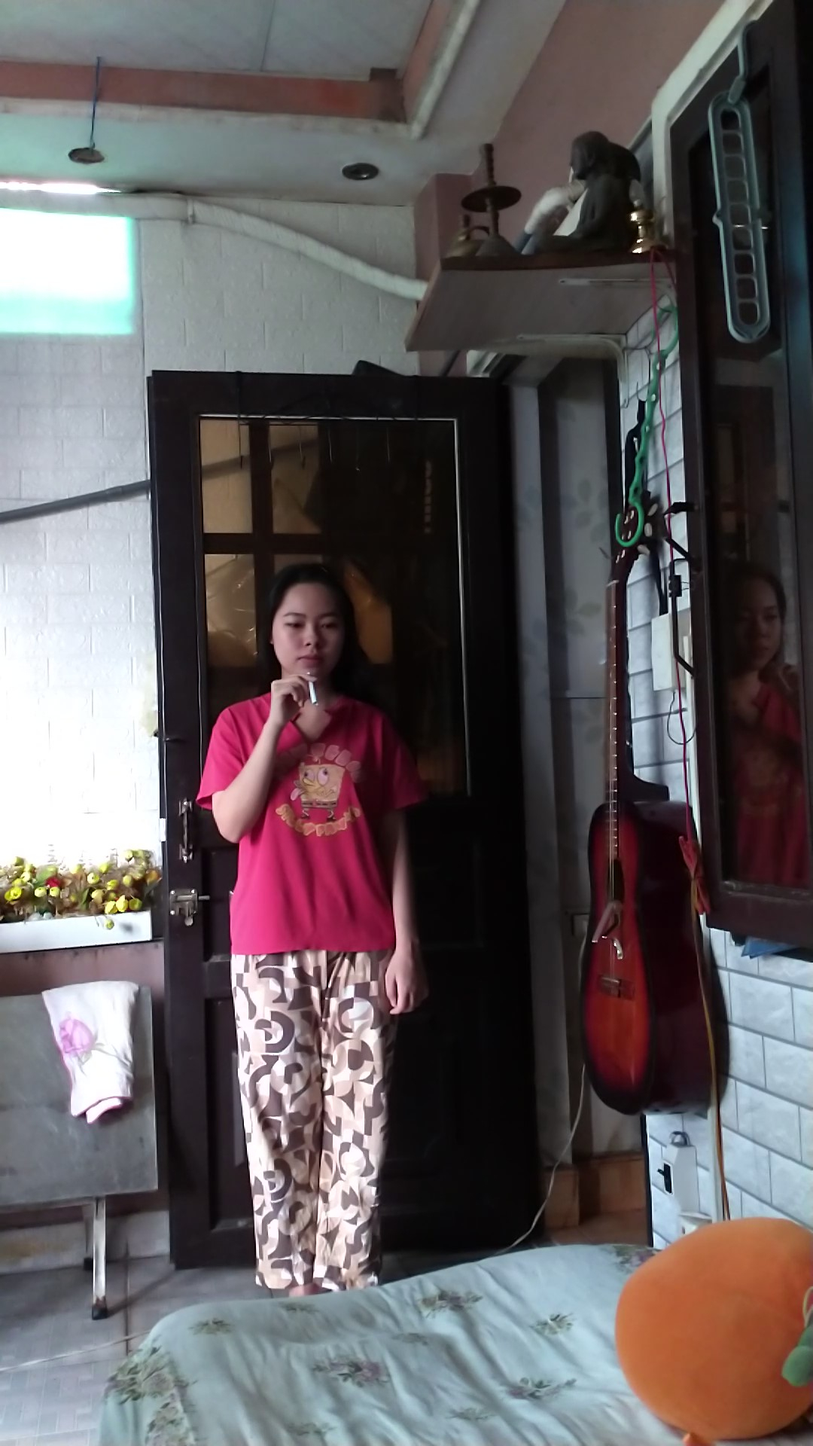cigarette: (305, 680, 320, 708)
person: (196, 520, 434, 1313)
